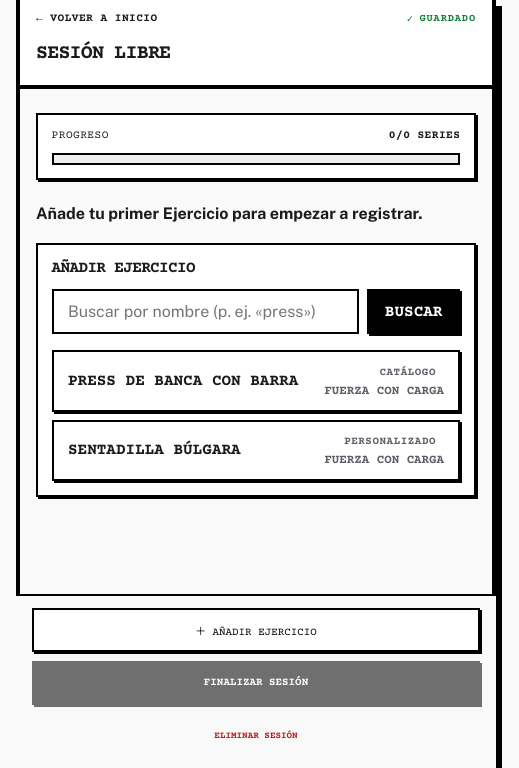
pantalla de la Sesión activa › un conflicto de revisión carga la versión vigente e informa sin mezclar cambios
This screenshot has width=519, height=768.
Click the button "Press de banca con barra Catálogo Fuerza con carga".
click(256, 381)  # box [52,350,460,412]
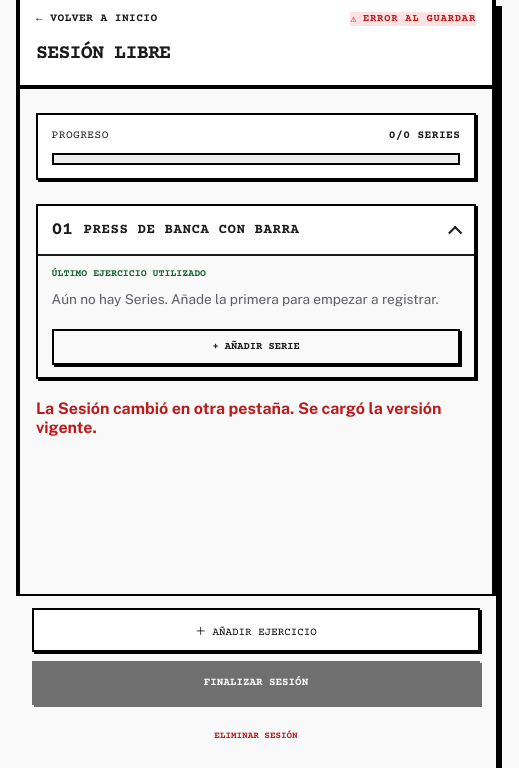
expect the text "La Sesión cambió en otra pestaña. Se cargó la versión vigente." is shown: met, box [36,399,476,437]
expect the button "01 Press de banca con barra" is shown: met, box [38,206,474,254]
